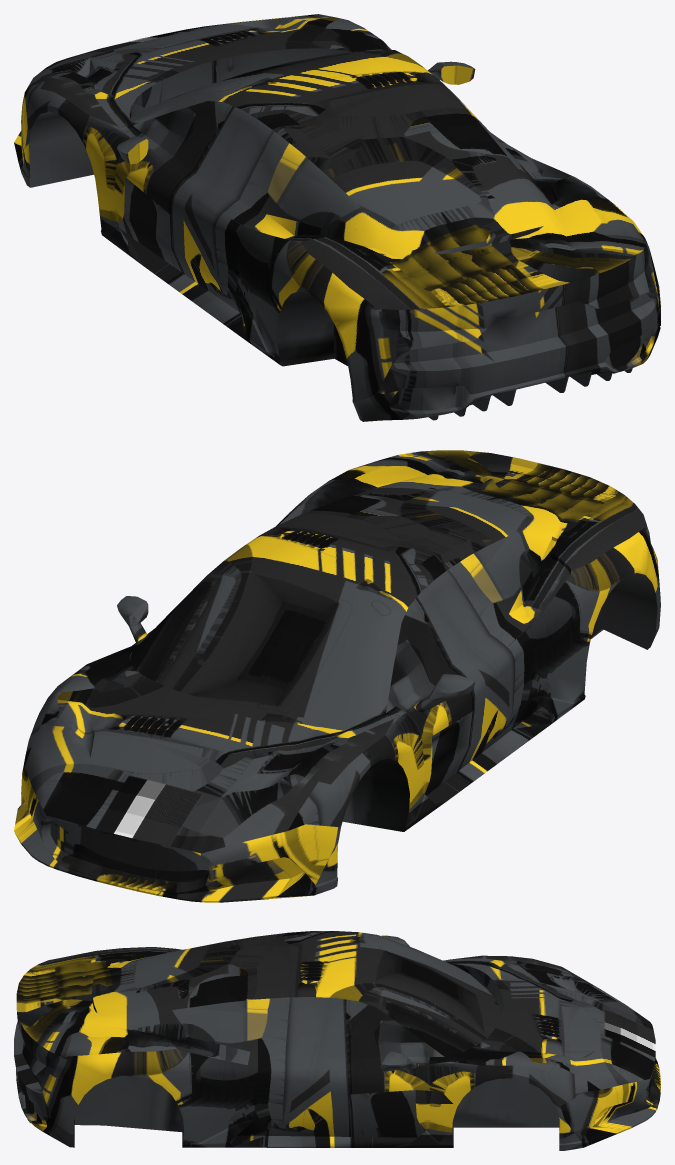
The model's file is car 88.fbx.
The picture shows the model from 3 angles, top to bottom: view 1: azimuth 30°, elevation 25°; view 2: azimuth 150°, elevation 25°; view 3: azimuth 270°, elevation 25°; orthographic projection. The views are drawn at different scales.
Parts seen in each view (by area): view 1: car_9; view 2: car_9; view 3: car_9.
Part boxes in pixels (x1,y1,x2,y2): car_9: (14,14,660,421); car_9: (14,450,660,902); car_9: (14,931,660,1150).
Bounding box in the file's own units: 17.96 × 9.08 × 37.96.
